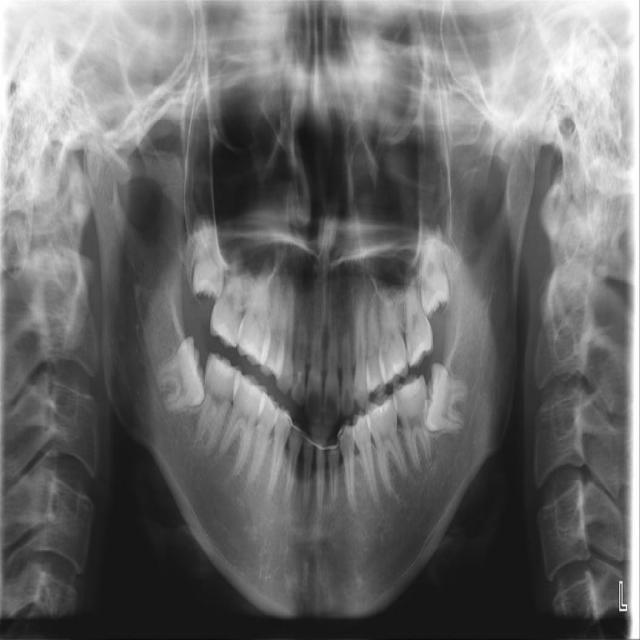3M ESPE Implant: (192, 214, 225, 301)
73: (600, 589, 608, 599)
BioHorizons Implant: (403, 266, 434, 369)
BioLife Implant: (416, 219, 451, 319)
Biomet 3i Implant: (420, 362, 471, 436)
Blue Sky Bio Implant: (390, 372, 434, 477)
Caries: (207, 246, 253, 350)
Implant: (192, 351, 245, 459)
Keystone Dental Implant: (148, 334, 213, 415)
